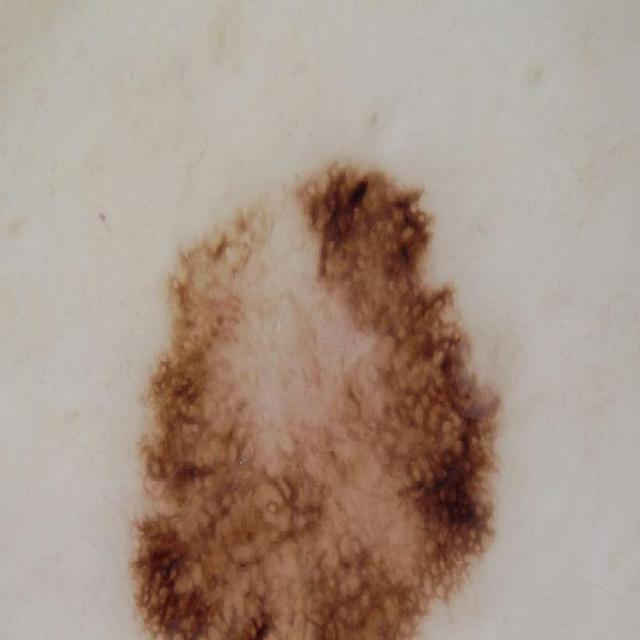Melanoma: (117, 142, 583, 640)
